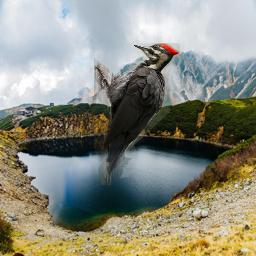Woodpecker: (94, 43, 180, 185)
